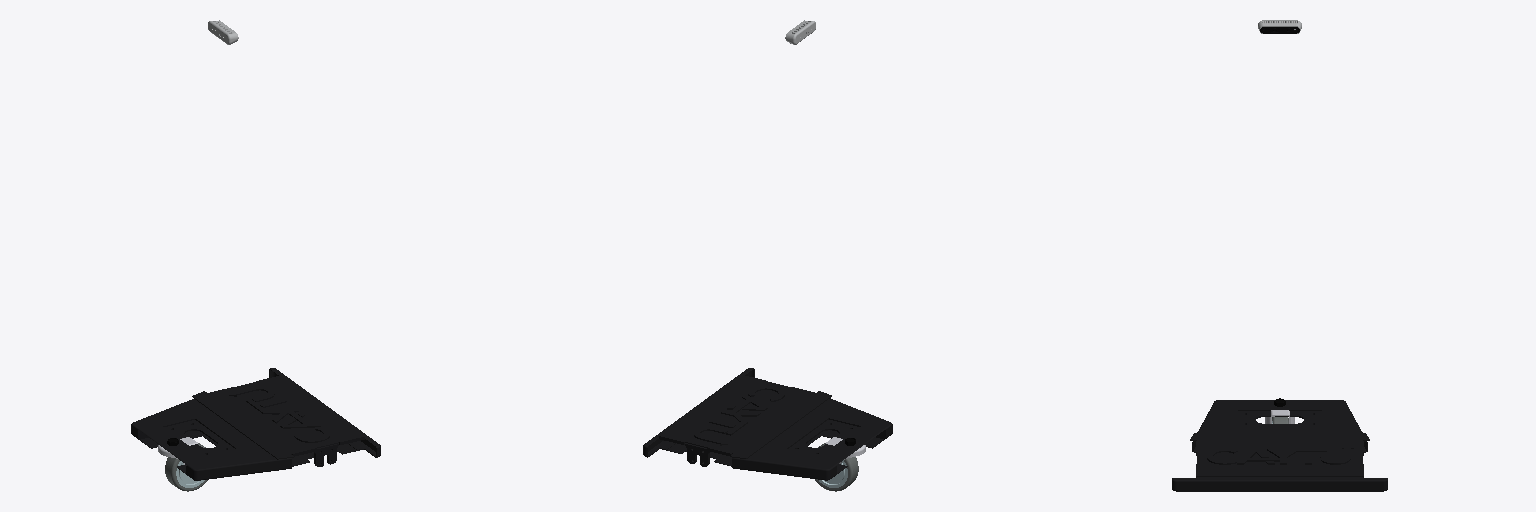
robot.urdf — sitoe_robot:
<?xml version="1.0" ?>
<!-- =================================================================================== -->
<!-- |    This document was autogenerated by xacro from sitoe_robot.urdf.xacro         | -->
<!-- |    EDITING THIS FILE BY HAND IS NOT RECOMMENDED                                 | -->
<!-- =================================================================================== -->
<robot name="sitoe_robot">
  <!-- Base footprint -->
  <link name="base_footprint"/>
  <joint name="base_joint" type="fixed">
    <parent link="base_footprint"/>
    <child link="base_link"/>
    <origin rpy="0 0 1.5707963267948966" xyz="0.0 0.0 0.0381"/>
  </joint>
  <!-- Base link/bottom chassis -->
  <link name="base_link">
    <visual>
      <origin rpy="1.5707963267948966 0 0" xyz="0.0 0.0 0.0"/>
      <geometry>
        <mesh filename="package://parc_robot_description/meshes/sitoe_chassis_bottom.dae"/>
      </geometry>
    </visual>
    <collision>
      <origin rpy="1.5707963267948966 0 0" xyz="0.0 0.0 0.0535"/>
      <geometry>
        <box size="0.4437 0.03785 0.3737"/>
      </geometry>
    </collision>
    <inertial>
      <origin rpy="1.5707963267948966 0 0" xyz="0.0 0.0 0.0535"/>
      <mass value="7.5"/>
      <inertia ixx="0.0881776953125" ixy="0.0" ixz="0.0" iyy="0.2103258625" iyz="0.0" izz="0.12393894531249999"/>
    </inertial>
  </link>
  <!-- Top chassis -->
  <link name="top_chassis_link">
    <visual>
      <origin rpy="1.5707963267948966 0 0" xyz="0.0 0.0 0.0"/>
      <geometry>
        <mesh filename="package://parc_robot_description/meshes/sitoe_chassis_top.dae"/>
      </geometry>
    </visual>
    <collision>
      <origin rpy="1.5707963267948966 0 0" xyz="0.0 0.0454341 0.68679"/>
      <geometry>
        <box size="0.4437 1.248 0.4858"/>
      </geometry>
    </collision>
    <inertial>
      <origin rpy="1.5707963267948966 0 0" xyz="0.0 0.0454341 0.68679"/>
      <mass value="7.5"/>
      <inertia ixx="1.120941025" ixy="0.0" ixz="0.0" iyy="0.27054458125" iyz="0.0" izz="1.09648355625"/>
    </inertial>
  </link>
  <joint name="chassis_joint" type="fixed">
    <parent link="base_link"/>
    <child link="top_chassis_link"/>
    <origin rpy="0 0 0" xyz="0.0 0.0 0.0"/>
  </joint>
  <!-- Change bumpers? -->
  <!-- Robot chassis bumper -->
  <gazebo reference="base_link">
    <sensor name="base_collision_sensor" type="contact">
      <contact>
        <collision>base_footprint_fixed_joint_lump__base_link_collision</collision>
        <topic>base_collisions</topic>
      </contact>
      <always_on>true</always_on>
      <update_rate>5</update_rate>
    </sensor>
  </gazebo>
  <!-- Right wheel -->
  <link name="right_wheel_link">
    <visual>
      <origin rpy="0 -1.5707963267948966 0" xyz="0.0956 -0.0435 0.19096"/>
      <!-- up, forward, sideways-->
      <!-- <origin rpy="0 -${pi/2} 0" xyz="0.0956 -0.0435 0.1965"/> -->
      <geometry>
        <mesh filename="package://parc_robot_description/meshes/right_wheel.dae"/>
      </geometry>
    </visual>
    <collision>
      <origin rpy="0 0 0" xyz="0.0 0.0 0.0"/>
      <geometry>
        <cylinder length="0.0446" radius="0.086"/>
      </geometry>
    </collision>
    <inertial>
      <origin rpy="0 0 0" xyz="0.0 0.0 0.0"/>
      <mass value="2.2"/>
      <inertia ixx="0.004432479333333334" ixy="0.0" ixz="0.0" iyy="0.004432479333333334" iyz="0.0" izz="0.0081356"/>
    </inertial>
  </link>
  <!-- Right wheel bumper -->
  <gazebo reference="right_wheel_link">
    <sensor name="right_wheel_collision_sensor" type="contact">
      <contact>
        <collision>right_wheel_link_collision</collision>
        <topic>right_wheel_collisions</topic>
      </contact>
      <always_on>true</always_on>
      <update_rate>5</update_rate>
    </sensor>
  </gazebo>
  <joint name="right_wheel_joint" type="continuous">
    <parent link="base_link"/>
    <child link="right_wheel_link"/>
    <!-- <origin rpy="0 ${pi/2} 0" xyz="-0.19649 -0.095 0.0476"/> -->
    <origin rpy="0 1.5707963267948966 0" xyz="-0.19649 -0.0945 0.0476"/>
    <axis xyz="0 0 1"/>
  </joint>
  <!-- Left wheel -->
  <link name="left_wheel_link">
    <visual>
      <!-- MAKE SURE IT COINCIDES WITH THE RIGHT WHEEL VALUES -->
      <origin rpy="0 1.5707963267948966 0" xyz="-0.0956 -0.0435 0.19096"/>
      <!-- up, forward, sideways-->
      <!-- <origin rpy="0 ${pi/2} 0" xyz="-0.0956 -0.0435 0.1965"/> -->
      <!-- <origin rpy="0 ${pi/2} 0" xyz="-0.0935 -0.044 0.1965"/> -->
      <geometry>
        <mesh filename="package://parc_robot_description/meshes/left_wheel.dae"/>
      </geometry>
    </visual>
    <collision>
      <origin rpy="0 0 0" xyz="0.0 0.0 0.0"/>
      <geometry>
        <cylinder length="0.0446" radius="0.086"/>
      </geometry>
    </collision>
    <inertial>
      <origin rpy="0 0 0" xyz="0.0 0.0 0.0"/>
      <mass value="2.2"/>
      <inertia ixx="0.004432479333333334" ixy="0.0" ixz="0.0" iyy="0.004432479333333334" iyz="0.0" izz="0.0081356"/>
    </inertial>
  </link>
  <!-- Left wheel bumper -->
  <gazebo reference="left_wheel_link">
    <sensor name="left_wheel_collision_sensor" type="contact">
      <contact>
        <collision>left_wheel_link_collision</collision>
        <topic>left_wheel_collisions</topic>
      </contact>
      <always_on>true</always_on>
      <update_rate>5</update_rate>
    </sensor>
  </gazebo>
  <joint name="left_wheel_joint" type="continuous">
    <parent link="base_link"/>
    <child link="left_wheel_link"/>
    <origin rpy="0 -1.5707963267948966 0" xyz="0.19649 -0.095 0.0476"/>
    <axis xyz="0 0 -1"/>
  </joint>
  <!-- Caster wheel -->
  <link name="caster_wheel_link">
    <visual>
      <origin rpy="1.5707963267948966 0 1.5707963267948966" xyz="0.133 0.0 0.0"/>
      <!-- <origin rpy="${pi/2} 0 ${pi/2}" xyz="0.133 0.0 -0.00554"/> -->
      <geometry>
        <mesh filename="package://parc_robot_description/meshes/caster_wheel.dae"/>
      </geometry>
    </visual>
    <collision>
      <origin rpy="0 0 0" xyz="0.0 0.0 0.0026"/>
      <geometry>
        <sphere radius="0.0508"/>
      </geometry>
    </collision>
    <inertial>
      <origin rpy="0 0 0" xyz="0.0 0.0 0.0"/>
      <mass value="0.45"/>
      <inertia ixx="0.00046451520000000005" ixy="0.0" ixz="0.0" iyy="0.00046451520000000005" iyz="0.0" izz="0.00046451520000000005"/>
    </inertial>
  </link>
  <joint name="caster_wheel_joint" type="fixed">
    <parent link="base_link"/>
    <child link="caster_wheel_link"/>
    <origin rpy="0 0 -1.5707963267948966" xyz="0.0 0.133 0.0"/>
  </joint>
  <!-- Friction -->
  <gazebo reference="base_link">
    <mu1>0.2</mu1>
    <mu2>0.2</mu2>
  </gazebo>
  <gazebo reference="right_wheel_link">
    <mu1>0.9</mu1>
    <mu2>0.7</mu2>
    <kp>10000000.0</kp>
    <kd>0.0</kd>
    <kd>1.0</kd>
    <minDepth>0.001</minDepth>
  </gazebo>
  <gazebo reference="left_wheel_link">
    <mu1>0.9</mu1>
    <mu2>0.7</mu2>
    <kp>10000000.0</kp>
    <kd>0.0</kd>
    <kd>1.0</kd>
    <minDepth>0.001</minDepth>
  </gazebo>
  <gazebo>
    <plugin filename="gz-sim-diff-drive-system" name="gz::sim::systems::DiffDrive">
      <!-- Topic for the command input -->
      <topic>/cmd_vel</topic>
      <!-- Wheel joints -->
      <left_joint>left_wheel_joint</left_joint>
      <right_joint>right_wheel_joint</right_joint>
      <!-- Wheel parameters -->
      <wheel_separation>0.3409</wheel_separation>
      <wheel_radius>0.08565</wheel_radius>
      <!-- Control gains and limits (optional) -->
      <!-- <max_velocity>3.0</max_velocity>  -->
      <max_velocity>0.5</max_velocity>
      <max_linear_acceleration>1</max_linear_acceleration>
      <min_linear_acceleration>-1</min_linear_acceleration>
      <max_angular_acceleration>2</max_angular_acceleration>
      <min_angular_acceleration>-2</min_angular_acceleration>
      <max_linear_velocity>1.5</max_linear_velocity>
      <min_linear_velocity>-1.5</min_linear_velocity>
      <max_angular_velocity>1</max_angular_velocity>
      <min_angular_velocity>-1</min_angular_velocity>
      <!-- Other parameters (optional) -->
      <odom_topic>odom</odom_topic>
      <tf_topic>tf</tf_topic>
      <frame_id>odom</frame_id>
      <child_frame_id>base_footprint</child_frame_id>
      <odom_publish_frequency>30</odom_publish_frequency>
    </plugin>
    <plugin filename="gz-sim-joint-state-publisher-system" name="gz::sim::systems::JointStatePublisher">
      <topic>joint_states</topic>
      <joint_name>left_wheel_joint</joint_name>
      <joint_name>right_wheel_joint</joint_name>
    </plugin>
    <!-- Pose publisher publishes the pose on gz topic /sitoe_robot/pose
    Confirm by listing topics with gz topic -l. Bridge topic data with ROS in
    the gz_bridge.yaml file -->
    <plugin filename="gz-sim-pose-publisher-system" name="gz::sim::systems::PosePublisher">
      <publish_link_pose>false</publish_link_pose>
      <publish_model_pose>true</publish_model_pose>
      <publish_nested_model_pose>false</publish_nested_model_pose>
      <use_pose_vector_msg>false</use_pose_vector_msg>
      <update_frequency>10</update_frequency>
    </plugin>
  </gazebo>
  <!-- D435 camera link -->
  <link name="top_camera_link">
    <visual>
      <origin rpy="1.5707963267948966 0 1.5707963267948966" xyz="0.0525 0.0 -0.9745"/>
      <geometry>
        <mesh filename="package://parc_robot_description/meshes/realsense_d435_top.dae"/>
      </geometry>
    </visual>
  </link>
  <!-- D435 camera joint -->
  <joint name="top_camera_joint" type="fixed">
    <parent link="top_chassis_link"/>
    <child link="top_camera_link"/>
    <origin rpy="0 0 -1.5707963267948966" xyz="0.0 0.0525 0.9745"/>
  </joint>
  <!-- D435 camera depth link and joint -->
  <link name="top_camera_depth"/>
  <joint name="top_camera_depth_joint" type="fixed">
    <origin rpy="0 0 0" xyz="0 0 0"/>
    <parent link="top_camera_link"/>
    <child link="top_camera_depth"/>
  </joint>
  <!-- D435 depth optical link and joint -->
  <link name="top_camera_depth_optical_frame"/>
  <!-- D435 camera optical joint -->
  <joint name="top_camera_depth_optical_joint" type="fixed">
    <origin rpy="-1.5707963267948966 0 -1.5707963267948966" xyz="0.0 0.0 0.0"/>
    <parent link="top_camera_depth"/>
    <child link="top_camera_depth_optical_frame"/>
  </joint>
  <!-- Camera left IR joints and links -->
  <link name="top_camera_infra1_frame"/>
  <joint name="top_camera_infra1_joint" type="fixed">
    <origin rpy="0 0 0" xyz="0 0.0 0"/>
    <parent link="top_camera_link"/>
    <child link="top_camera_infra1_frame"/>
  </joint>
  <link name="top_camera_infra1_optical_frame"/>
  <joint name="top_camera_infra1_optical_joint" type="fixed">
    <origin rpy="-1.5707963267948966 0 -1.5707963267948966" xyz="0.0 0.0 0.0"/>
    <parent link="top_camera_infra1_frame"/>
    <child link="top_camera_infra1_optical_frame"/>
  </joint>
  <!-- Camera right IR joints and links -->
  <link name="top_camera_infra2_frame"/>
  <joint name="top_camera_infra2_joint" type="fixed">
    <origin rpy="0 0 0" xyz="0 -0.05 0"/>
    <parent link="top_camera_link"/>
    <child link="top_camera_infra2_frame"/>
  </joint>
  <link name="top_camera_infra2_optical_frame"/>
  <joint name="top_camera_infra2_optical_joint" type="fixed">
    <origin rpy="-1.5707963267948966 0 -1.5707963267948966" xyz="0.0 0.0 0.0"/>
    <parent link="top_camera_infra2_frame"/>
    <child link="top_camera_infra2_optical_frame"/>
  </joint>
  <!-- Camera color joint and link -->
  <link name="top_camera_color_frame"/>
  <joint name="top_camera_color_joint" type="fixed">
    <origin rpy="0 0 0" xyz="0 0.015 0"/>
    <parent link="top_camera_link"/>
    <child link="top_camera_color_frame"/>
  </joint>
  <link name="top_camera_color_optical_frame"/>
  <joint name="top_camera_color_optical_joint" type="fixed">
    <origin rpy="-1.5707963267948966 0 -1.5707963267948966" xyz="0 0 0"/>
    <parent link="top_camera_color_frame"/>
    <child link="top_camera_color_optical_frame"/>
  </joint>
  <!-- Gazebo color frame link reference -->
  <gazebo reference="top_camera_color_frame">
    <sensor name="top_camera_color" type="camera">
      <always_on>true</always_on>
      <visualize>false</visualize>
      <update_rate>30.0</update_rate>
      <topic>top_camera_color/image_raw</topic>
      <gz_frame_id>top_camera_color_optical_frame</gz_frame_id>
      <camera name="top_camera_color">
        <camera_info_topic>top_camera_color/camera_info</camera_info_topic>
        <horizontal_fov>1.57</horizontal_fov>
        <image>
          <width>640</width>
          <height>480</height>
          <format>R8G8B8</format>
        </image>
        <clip>
          <near>0.1</near>
          <far>100</far>
        </clip>
        <noise>
          <type>gaussian</type>
          <mean>0.0</mean>
          <stddev>0.007</stddev>
        </noise>
      </camera>
    </sensor>
  </gazebo>
  <!-- Gazebo depth camera link reference -->
  <gazebo reference="top_camera_depth">
    <sensor name="top_camera_depth" type="rgbd_camera">
      <always_on>true</always_on>
      <visualize>false</visualize>
      <update_rate>15.0</update_rate>
      <topic>top_camera_depth</topic>
      <gz_frame_id>top_camera_depth</gz_frame_id>
      <camera name="top_camera_depth">
        <camera_info_topic>top_camera_depth/camera_info</camera_info_topic>
        <horizontal_fov>1.57</horizontal_fov>
        <image>
          <width>640</width>
          <height>480</height>
          <format>B8G8R8</format>
        </image>
        <clip>
          <near>0.1</near>
          <far>100</far>
        </clip>
        <noise>
          <type>gaussian</type>
          <mean>0.0</mean>
          <stddev>0.100</stddev>
        </noise>
      </camera>
    </sensor>
  </gazebo>
  <!-- D435 camera link -->
  <link name="bottom_camera_link">
    <visual>
      <origin rpy="0.5235987755982988 0 1.5707963267948966" xyz="0.433 0.0 -0.34"/>
      <geometry>
        <mesh filename="package://parc_robot_description/meshes/realsense_d435_bottom.dae"/>
      </geometry>
    </visual>
  </link>
  <!-- D435 camera joint -->
  <joint name="bottom_camera_joint" type="fixed">
    <parent link="base_link"/>
    <child link="bottom_camera_link"/>
    <origin rpy="0 1.0471975511965976 -1.5707963267948966" xyz="0.0 -0.077 0.545"/>
  </joint>
  <!-- D435 camera depth link and joint -->
  <link name="bottom_camera_depth"/>
  <joint name="bottom_camera_depth_joint" type="fixed">
    <origin rpy="0 0 0" xyz="0 0 0"/>
    <parent link="bottom_camera_link"/>
    <child link="bottom_camera_depth"/>
  </joint>
  <!-- D435 depth optical link and joint -->
  <link name="bottom_camera_depth_optical_frame"/>
  <!-- D435 camera optical joint -->
  <joint name="bottom_camera_depth_optical_joint" type="fixed">
    <origin rpy="-1.5707963267948966 0 -1.5707963267948966" xyz="0.0 0.0 0.0"/>
    <parent link="bottom_camera_depth"/>
    <child link="bottom_camera_depth_optical_frame"/>
  </joint>
  <!-- Camera left IR joints and links -->
  <link name="bottom_camera_infra1_frame"/>
  <joint name="bottom_camera_infra1_joint" type="fixed">
    <origin rpy="0 0 0" xyz="0 0.0 0"/>
    <parent link="bottom_camera_link"/>
    <child link="bottom_camera_infra1_frame"/>
  </joint>
  <link name="bottom_camera_infra1_optical_frame"/>
  <joint name="bottom_camera_infra1_optical_joint" type="fixed">
    <origin rpy="-1.5707963267948966 0 -1.5707963267948966" xyz="0.0 0.0 0.0"/>
    <parent link="bottom_camera_infra1_frame"/>
    <child link="bottom_camera_infra1_optical_frame"/>
  </joint>
  <!-- Camera right IR joints and links -->
  <link name="bottom_camera_infra2_frame"/>
  <joint name="bottom_camera_infra2_joint" type="fixed">
    <origin rpy="0 0 0" xyz="0 -0.05 0"/>
    <parent link="bottom_camera_link"/>
    <child link="bottom_camera_infra2_frame"/>
  </joint>
  <link name="bottom_camera_infra2_optical_frame"/>
  <joint name="bottom_camera_infra2_optical_joint" type="fixed">
    <origin rpy="-1.5707963267948966 0 -1.5707963267948966" xyz="0.0 0.0 0.0"/>
    <parent link="bottom_camera_infra2_frame"/>
    <child link="bottom_camera_infra2_optical_frame"/>
  </joint>
  <!-- Camera color joint and link -->
  <link name="bottom_camera_color_frame"/>
  <joint name="bottom_camera_color_joint" type="fixed">
    <origin rpy="0 0 0" xyz="0 0.015 0"/>
    <parent link="bottom_camera_link"/>
    <child link="bottom_camera_color_frame"/>
  </joint>
  <link name="bottom_camera_color_optical_frame"/>
  <joint name="bottom_camera_color_optical_joint" type="fixed">
    <origin rpy="-1.5707963267948966 0 -1.5707963267948966" xyz="0 0 0"/>
    <parent link="bottom_camera_color_frame"/>
    <child link="bottom_camera_color_optical_frame"/>
  </joint>
  <!-- Gazebo color frame link reference -->
  <gazebo reference="bottom_camera_color_frame">
    <sensor name="bottom_camera_color" type="camera">
      <always_on>true</always_on>
      <visualize>false</visualize>
      <update_rate>30.0</update_rate>
      <topic>bottom_camera_color/image_raw</topic>
      <gz_frame_id>bottom_camera_color_optical_frame</gz_frame_id>
      <camera name="bottom_camera_color">
        <camera_info_topic>bottom_camera_color/camera_info</camera_info_topic>
        <horizontal_fov>1.57</horizontal_fov>
        <image>
          <width>640</width>
          <height>480</height>
          <format>R8G8B8</format>
        </image>
        <clip>
          <near>0.1</near>
          <far>100</far>
        </clip>
        <noise>
          <type>gaussian</type>
          <mean>0.0</mean>
          <stddev>0.007</stddev>
        </noise>
      </camera>
    </sensor>
  </gazebo>
  <!-- Gazebo depth camera link reference -->
  <gazebo reference="bottom_camera_depth">
    <sensor name="bottom_camera_depth" type="rgbd_camera">
      <always_on>true</always_on>
      <visualize>false</visualize>
      <update_rate>15.0</update_rate>
      <topic>bottom_camera_depth</topic>
      <gz_frame_id>bottom_camera_depth</gz_frame_id>
      <camera name="bottom_camera_depth">
        <camera_info_topic>bottom_camera_depth/camera_info</camera_info_topic>
        <horizontal_fov>1.57</horizontal_fov>
        <image>
          <width>640</width>
          <height>480</height>
          <format>B8G8R8</format>
        </image>
        <clip>
          <near>0.1</near>
          <far>100</far>
        </clip>
        <noise>
          <type>gaussian</type>
          <mean>0.0</mean>
          <stddev>0.100</stddev>
        </noise>
      </camera>
    </sensor>
  </gazebo>
  <link name="imu_link"/>
  <joint name="imu_joint" type="fixed">
    <parent link="base_link"/>
    <child link="imu_link"/>
    <origin rpy="0 0 -1.5707963267948966" xyz="0 -0.02 0.054"/>
  </joint>
  <gazebo reference="imu_link">
    <sensor name="imu_sensor" type="imu">
      <pose>0 0 0 0 0 0</pose>
      <gravity>true</gravity>
      <always_on>true</always_on>
      <update_rate>100</update_rate>
      <gz_frame_id>imu_link</gz_frame_id>
      <visualize>true</visualize>
      <topic>imu</topic>
      <imu>
        <angular_velocity>
          <x>
            <noise type="gaussian">
              <mean>0.0</mean>
              <stddev>2e-4</stddev>
            </noise>
          </x>
          <y>
            <noise type="gaussian">
              <mean>0.0</mean>
              <stddev>2e-4</stddev>
            </noise>
          </y>
          <z>
            <noise type="gaussian">
              <mean>0.0</mean>
              <stddev>2e-4</stddev>
            </noise>
          </z>
        </angular_velocity>
        <linear_acceleration>
          <x>
            <noise type="gaussian">
              <mean>0.0</mean>
              <stddev>1.7e-2</stddev>
            </noise>
          </x>
          <y>
            <noise type="gaussian">
              <mean>0.0</mean>
              <stddev>1.7e-2</stddev>
            </noise>
          </y>
          <z>
            <noise type="gaussian">
              <mean>0.0</mean>
              <stddev>1.7e-2</stddev>
            </noise>
          </z>
        </linear_acceleration>
        <orientation>
          <x>
            <noise type="gaussian">
              <mean>0.0</mean>
              <stddev>2e-3</stddev>
            </noise>
          </x>
          <y>
            <noise type="gaussian">
              <mean>0.0</mean>
              <stddev>2e-3</stddev>
            </noise>
          </y>
          <z>
            <noise type="gaussian">
              <mean>0.0</mean>
              <stddev>2e-3</stddev>
            </noise>
          </z>
        </orientation>
      </imu>
    </sensor>
  </gazebo>
  <link name="lidar_link">
    <visual>
      <origin rpy="1.5707963267948966 0 0" xyz="0.0 -0.021 0.0"/>
      <geometry>
        <mesh filename="package://parc_robot_description/meshes/rplidarc1.dae"/>
      </geometry>
    </visual>
    <collision>
      <origin rpy="0 0 0" xyz="0.0 0.0 0.02065"/>
      <geometry>
        <cylinder length="0.0413" radius="0.0278"/>
      </geometry>
    </collision>
    <inertial>
      <origin rpy="0 0 0" xyz="0.0 0.0 0.0"/>
      <mass value="0.11"/>
      <inertia ixx="3.6888591666666666e-05" ixy="0.0" ixz="0.0" iyy="3.6888591666666666e-05" iyz="0.0" izz="4.2506199999999996e-05"/>
    </inertial>
  </link>
  <joint name="lidar_joint" type="fixed">
    <parent link="base_link"/>
    <child link="lidar_link"/>
    <origin rpy="0 0 -1.5707963267948966" xyz="0.0 0.021 0.0"/>
  </joint>
  <gazebo reference="lidar_link">
    <sensor name="rplidar_c1" type="gpu_lidar">
      <pose>0 0 0.01 0 -0.04363323129985824 0</pose>
      <always_on>true</always_on>
      <visualize>true</visualize>
      <update_rate>10</update_rate>
      <topic>scan</topic>
      <gz_frame_id>lidar_link</gz_frame_id>
      <ray>
        <scan>
          <horizontal>
            <samples>360</samples>
            <min_angle>-3.14</min_angle>
            <max_angle>3.14</max_angle>
          </horizontal>
        </scan>
        <range>
          <min>0.05</min>
          <max>12.0</max>
          <resolution>0.015</resolution>
        </range>
        <noise>
          <type>gaussian</type>
          <mean>0.0</mean>
          <stddev>0.01</stddev>
        </noise>
      </ray>
    </sensor>
  </gazebo>
</robot>

--- What the picture shows (computed from the rendered views, not written in the file) ---
3 views of the same robot in one strip: view 1: azimuth 30°, elevation 25°; view 2: azimuth 150°, elevation 25°; view 3: azimuth 270°, elevation 25° (orthographic).
Model sitoe_robot with 26 links and 25 joints (2 continuous, 23 fixed), rooted at base_footprint, posed all joints at 0.
Links seen in each view (by area): view 1: base_link, caster_wheel_link; view 2: base_link, caster_wheel_link; view 3: base_link, top_camera_link.
Boxes of the visible links, x1,y1,x2,y2 form: base_link: (131, 368, 380, 480); caster_wheel_link: (158, 437, 207, 491); base_link: (643, 368, 892, 480); caster_wheel_link: (815, 437, 865, 491); base_link: (1172, 398, 1387, 491); top_camera_link: (1258, 20, 1301, 33).
Bounding box of the posed robot: 0.4006 × 0.4436 × 1.03 m (x, y, z).
Meshes: 8 distinct files referenced, 4 mesh visuals loaded (4 Collada DAE); not drawn: 4 (reference not matched to a file when rendering).
